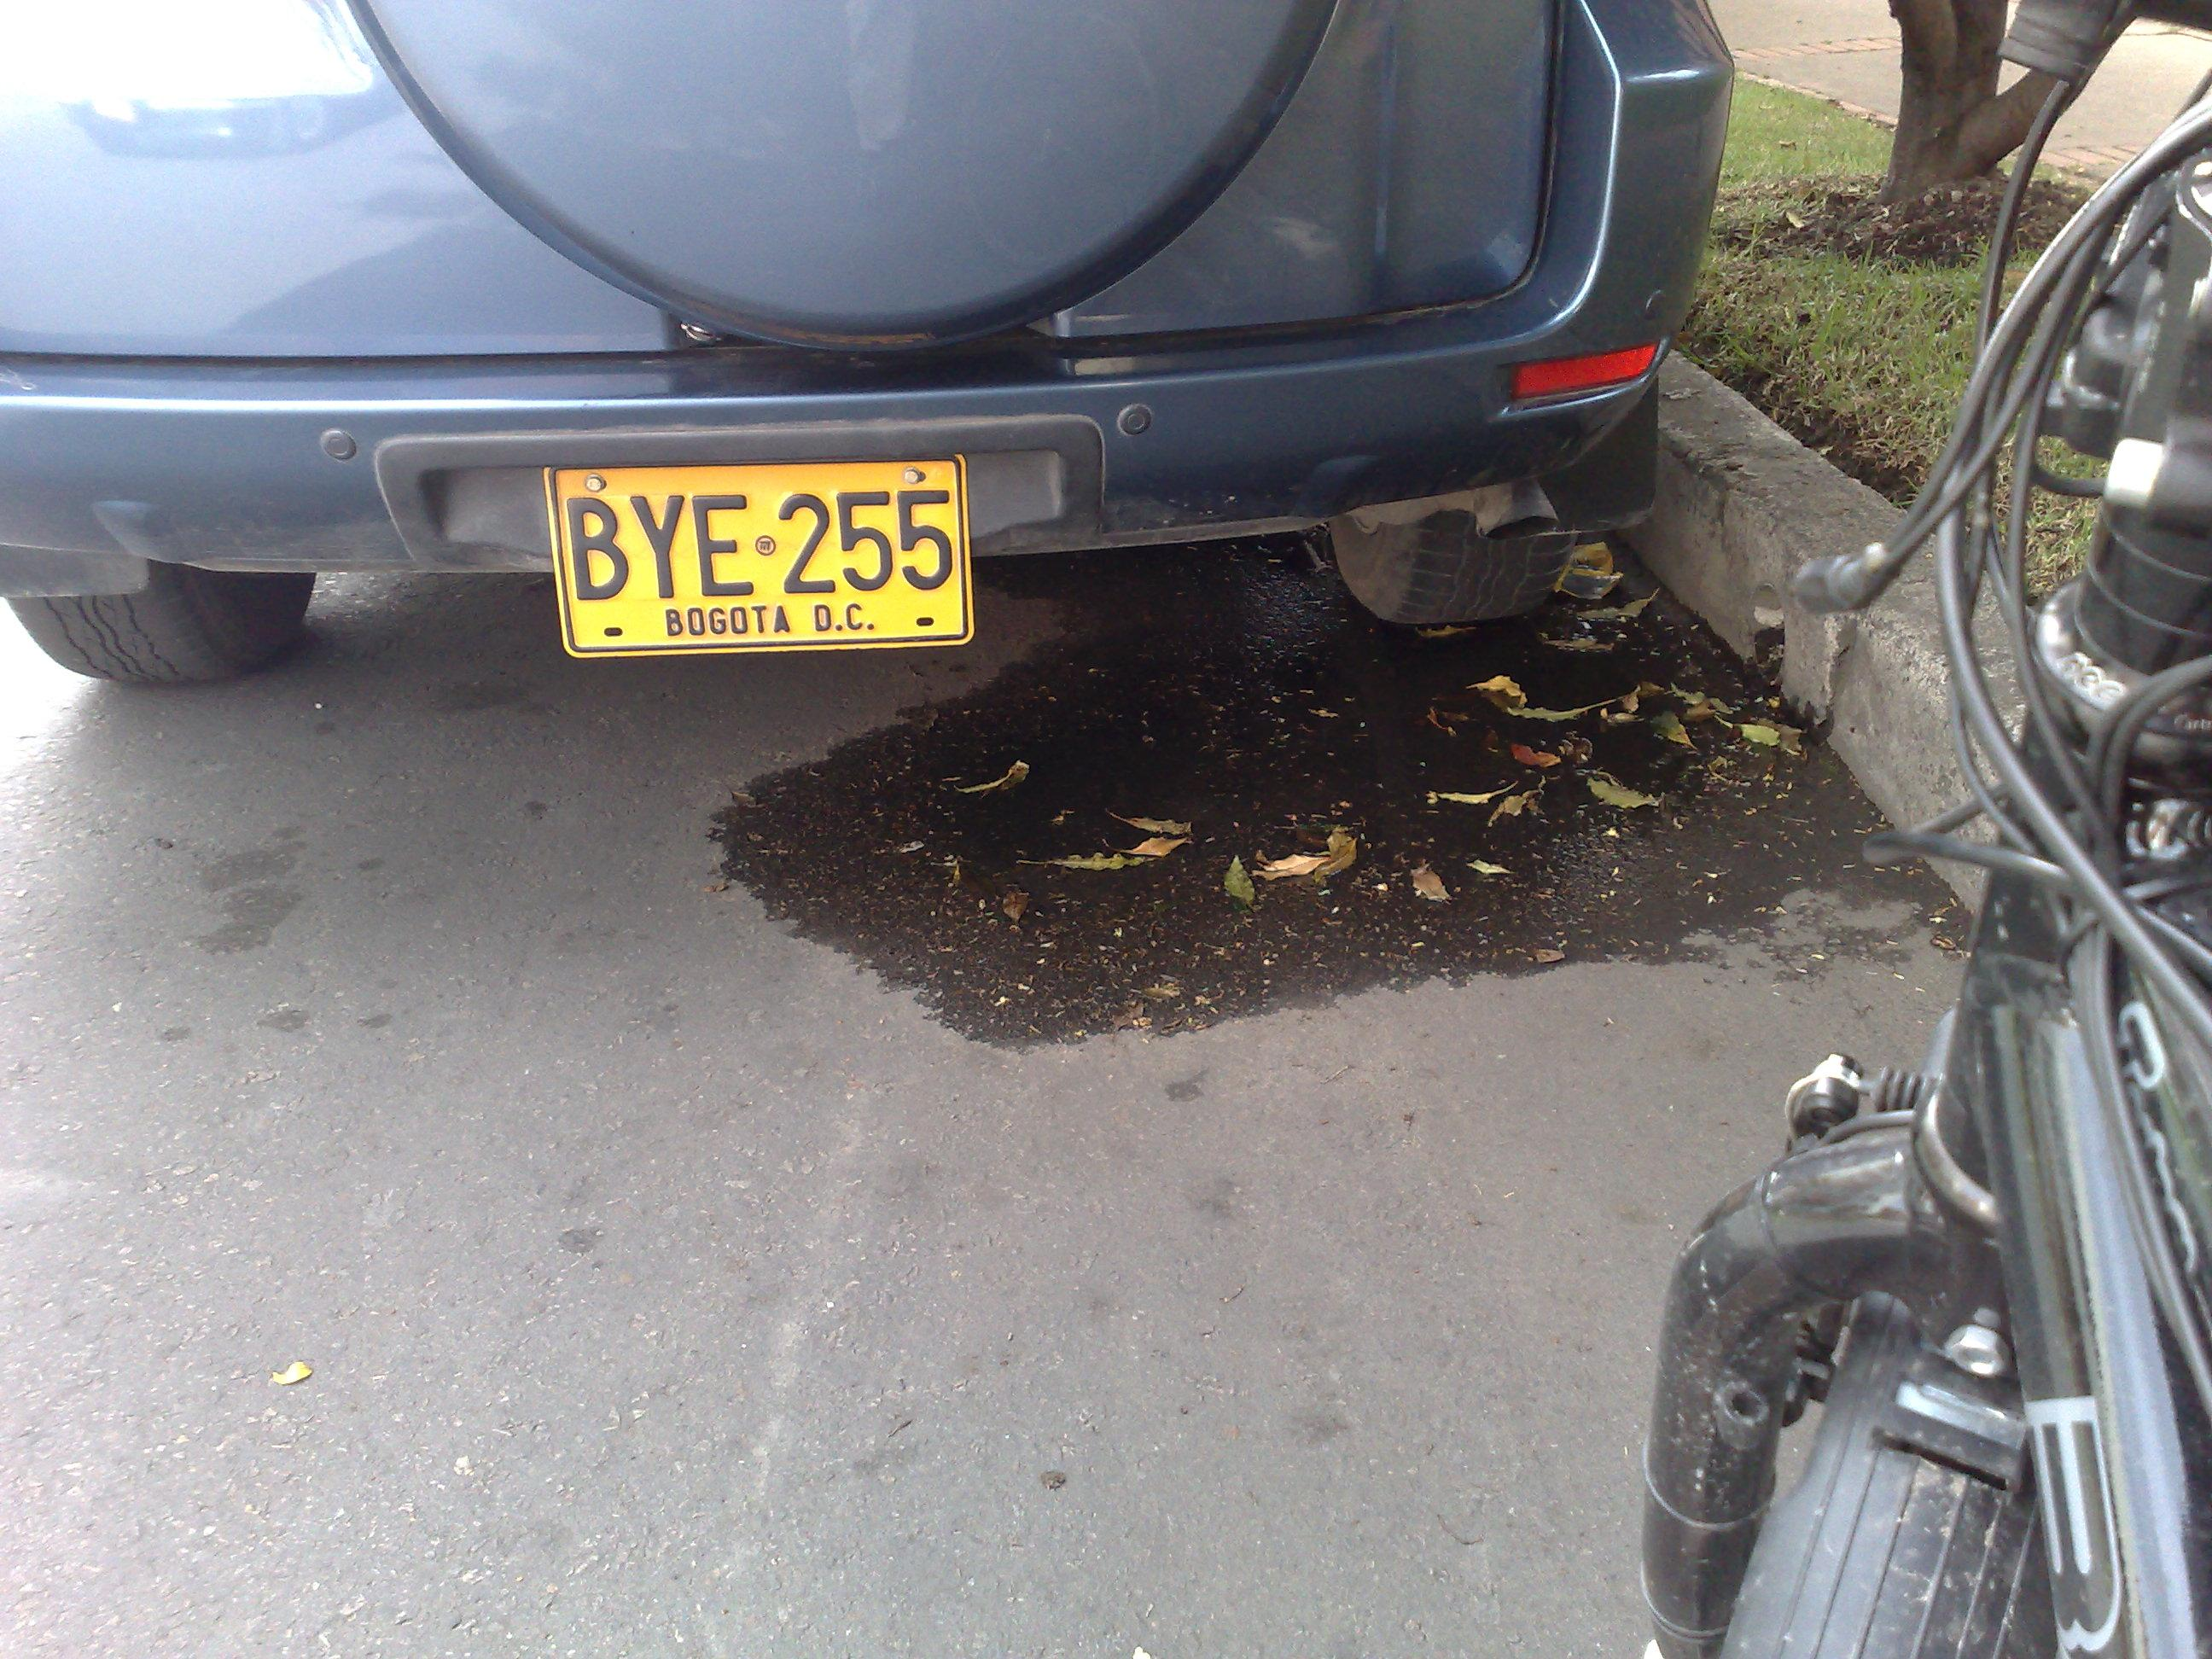placas: (536, 446, 988, 666)
